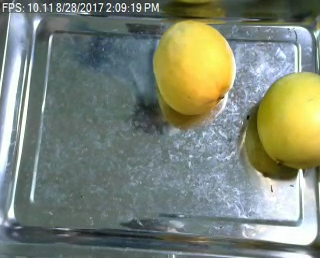Mango: (153, 19, 236, 114), (255, 72, 320, 169)
